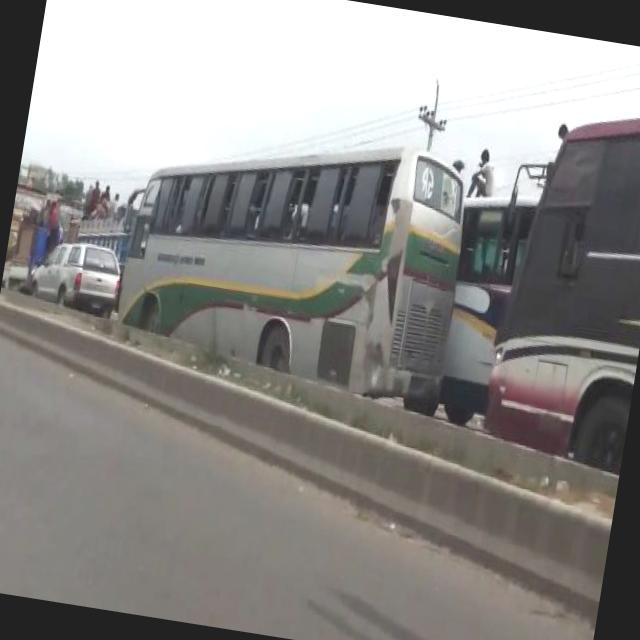bus: (107, 102, 480, 414), (473, 82, 640, 480)
